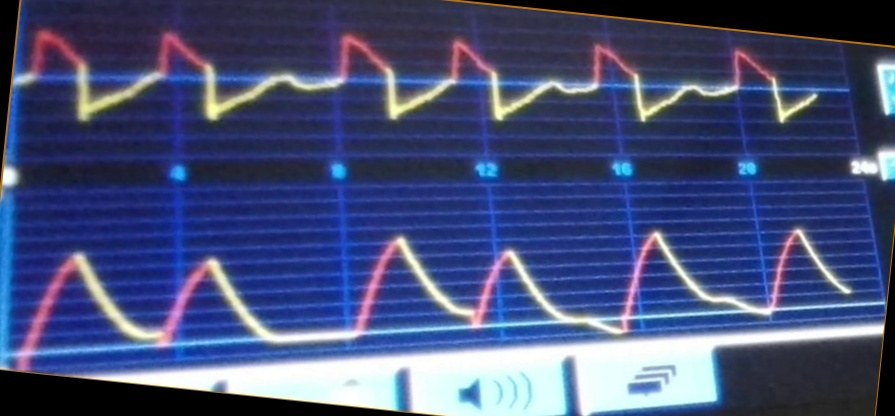Ineffective_effort Flow: (25, 25, 816, 136)
Ineffective_effort Volume: (9, 223, 855, 350)
